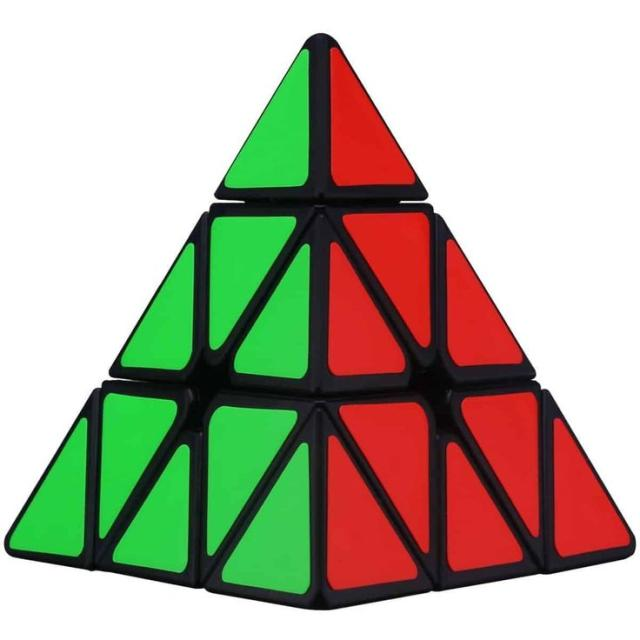Pyraminx: (6, 34, 634, 608)
